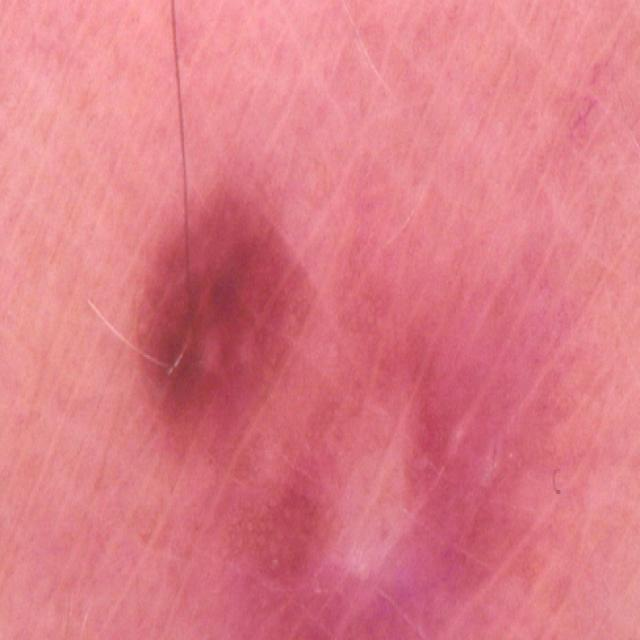Dermatofibroma: (120, 161, 543, 640)
